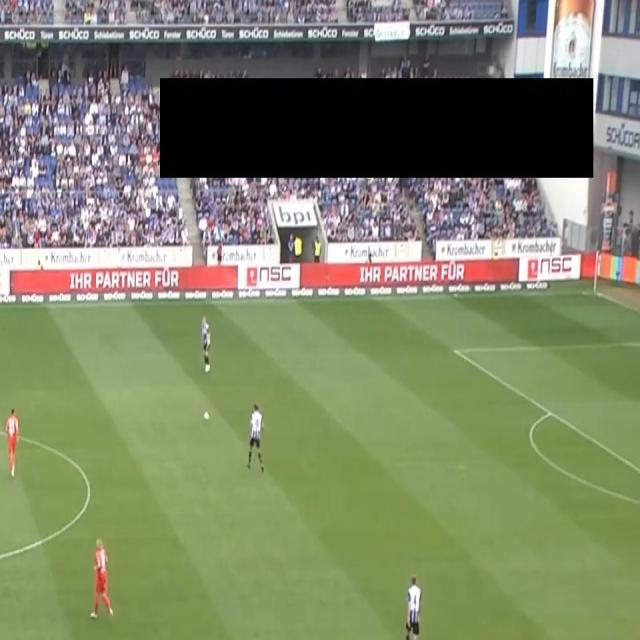ball: (203, 411, 210, 422)
